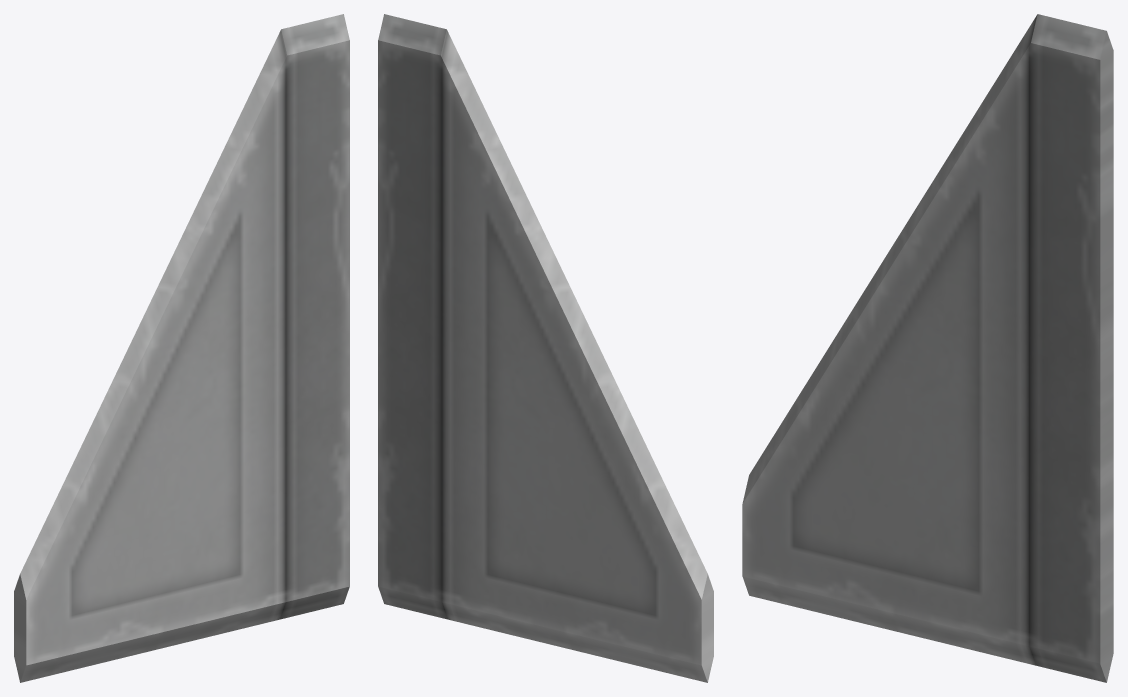
The model's file is canopus_basic_fin_srf_1.obj.
The picture shows the model from 3 angles, left to right: view 1: azimuth 30°, elevation 25°; view 2: azimuth 150°, elevation 25°; view 3: azimuth 330°, elevation 25°; orthographic projection. The views are drawn at different scales.
Visible parts, largest first — view 1: canopus_basic_fin_srf_1; view 2: canopus_basic_fin_srf_1; view 3: canopus_basic_fin_srf_1.
Part boxes in pixels (box(x1,y1,x2,y2)): canopus_basic_fin_srf_1: box(14, 14, 349, 682); canopus_basic_fin_srf_1: box(378, 14, 713, 682); canopus_basic_fin_srf_1: box(742, 14, 1113, 682).
Size of the model in its own units: 0.3875 by 0.675 by 0.025.
